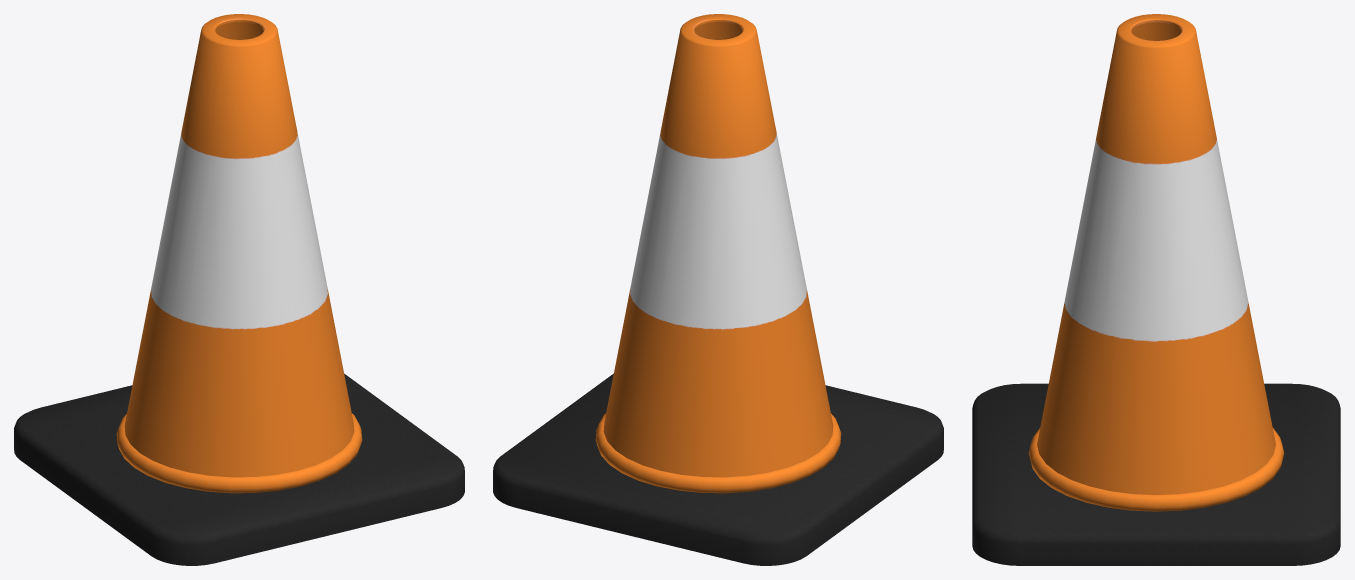
The model's file is traffic_cone.glb.
3 renders of one model, left to right at view 1: azimuth 30°, elevation 25°; view 2: azimuth 150°, elevation 25°; view 3: azimuth 270°, elevation 25°, orthographic. The views are drawn at different scales.
Visible parts, largest first — view 1: Target; view 2: Target; view 3: Target.
Part boxes in pixels (box(x1,y1,x2,y2)): Target: box(14, 14, 464, 565); Target: box(493, 14, 943, 565); Target: box(972, 14, 1340, 565).
Bounding box in the file's own units: 0.3109 × 0.4266 × 0.3109.
Materials: 1 (1 with a texture image).
